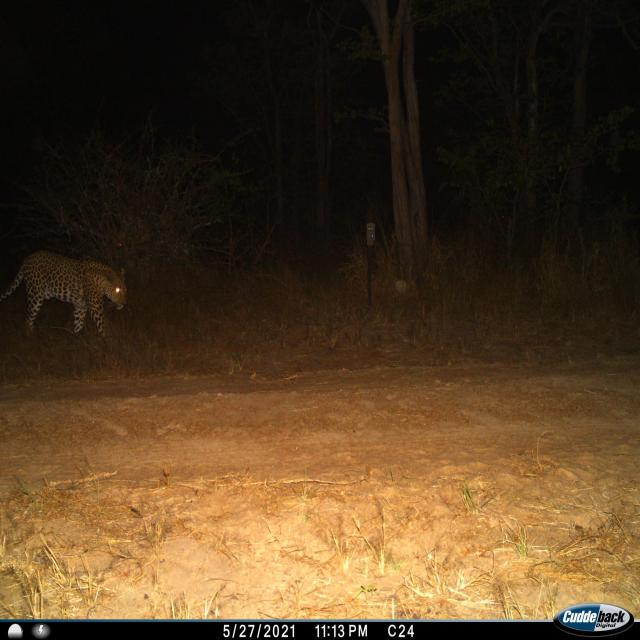Leopard: (6, 246, 127, 355)
